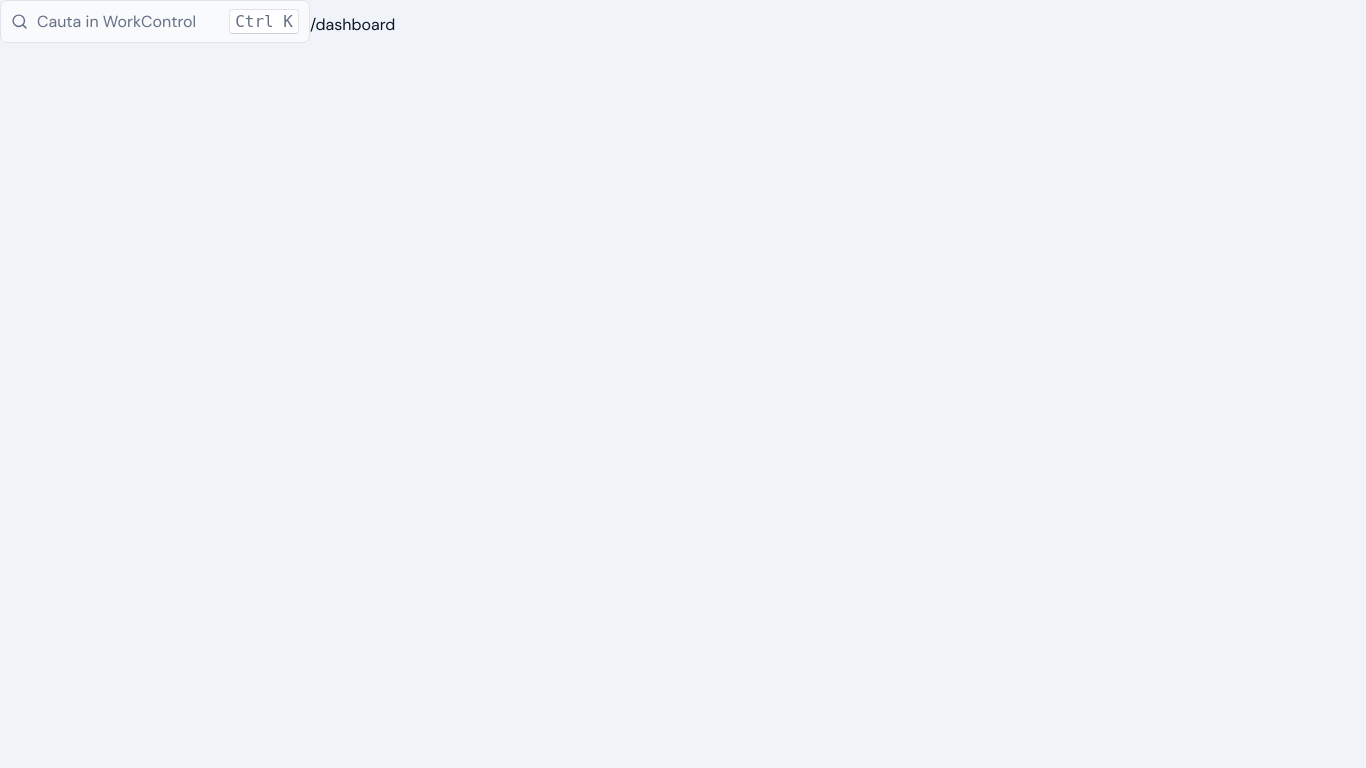
Test: GlobalCommandPalette › opens with Ctrl+K and navigates using the shared action catalog
Type keys "{Control>}k{/Control}"
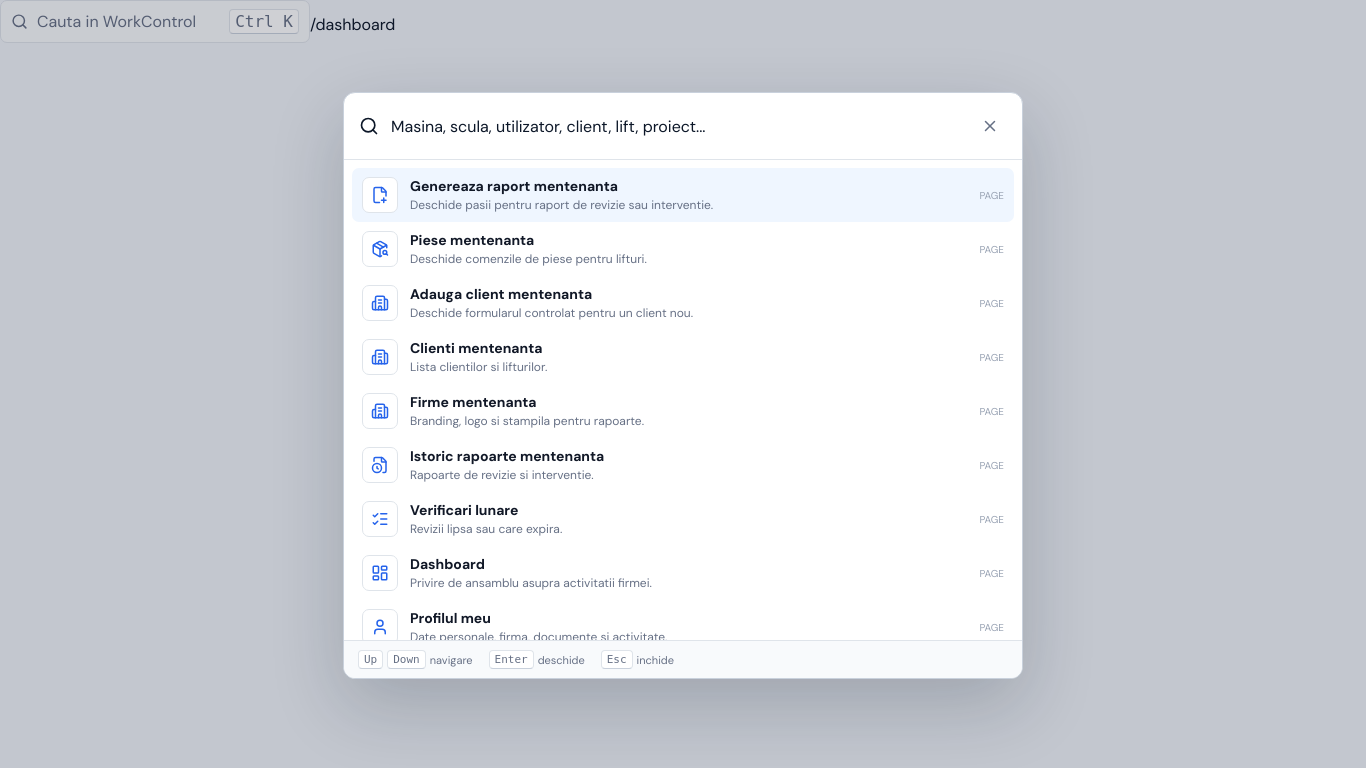
Check: the dialog named "Cautare globala" is shown, box [343, 92, 1023, 679]
Type "pontajul meu" into the field named "Cauta" at (676, 126), box [389, 106, 963, 146]
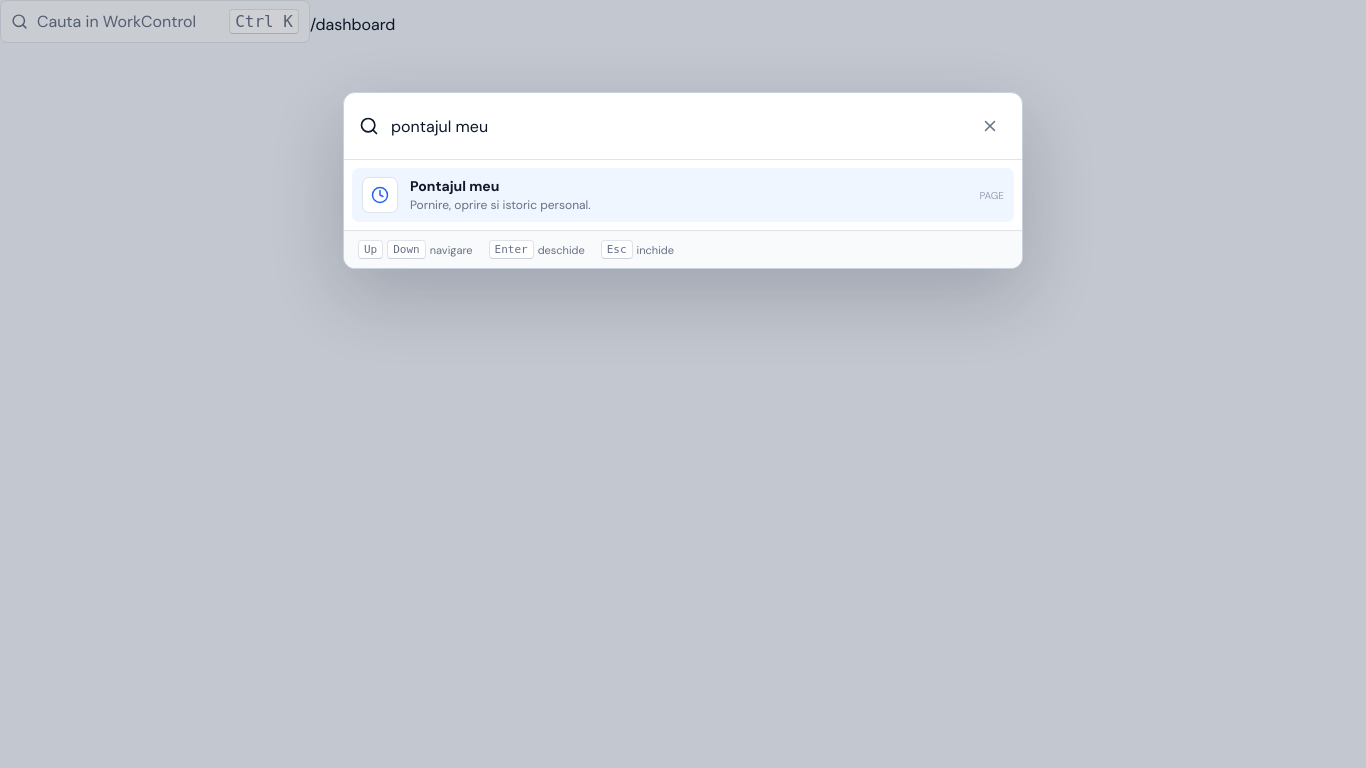
Press Enter
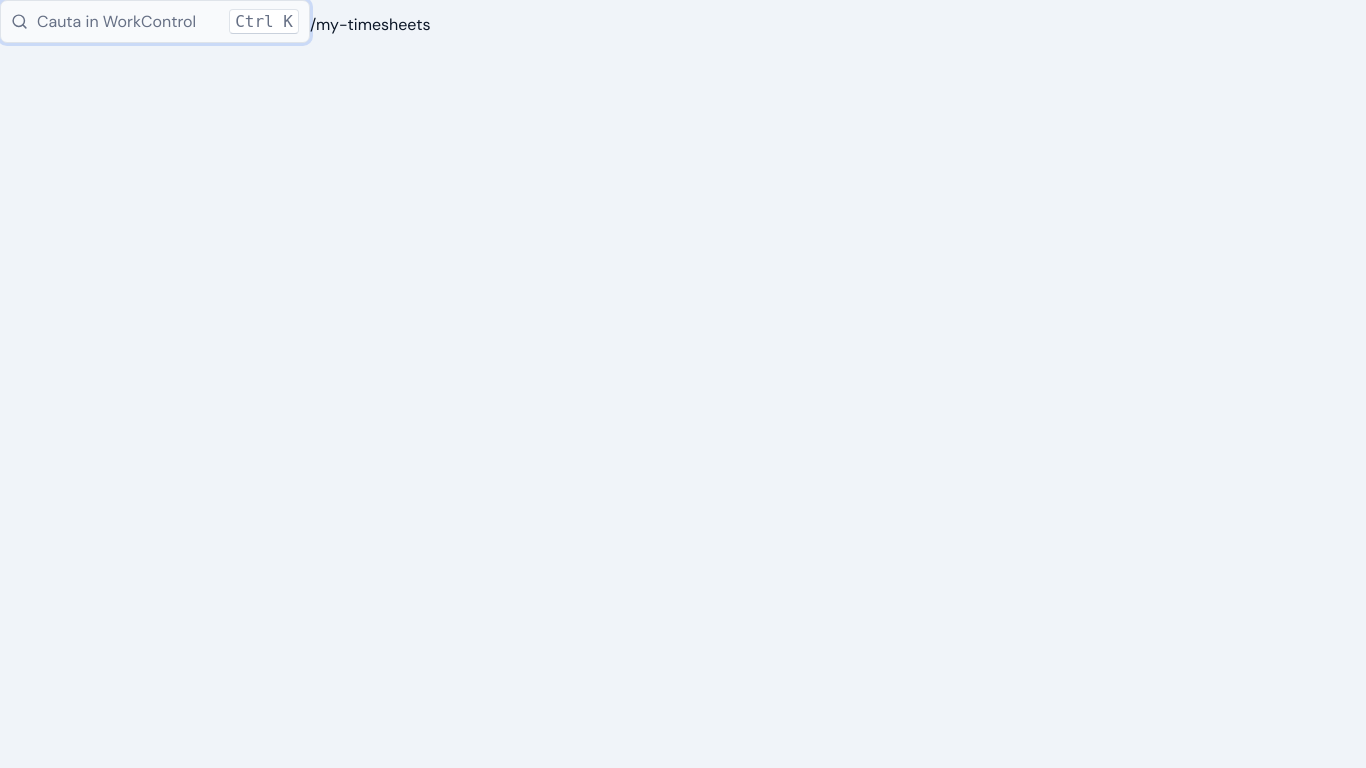
Check: the text with test id "current-path" reads "/my-timesheets", box [310, 14, 430, 35]
